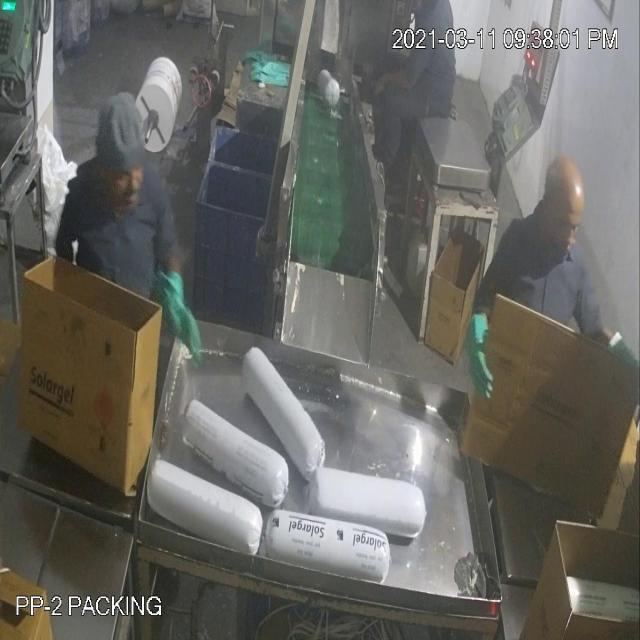No_Gloves: (35, 52, 480, 355)
